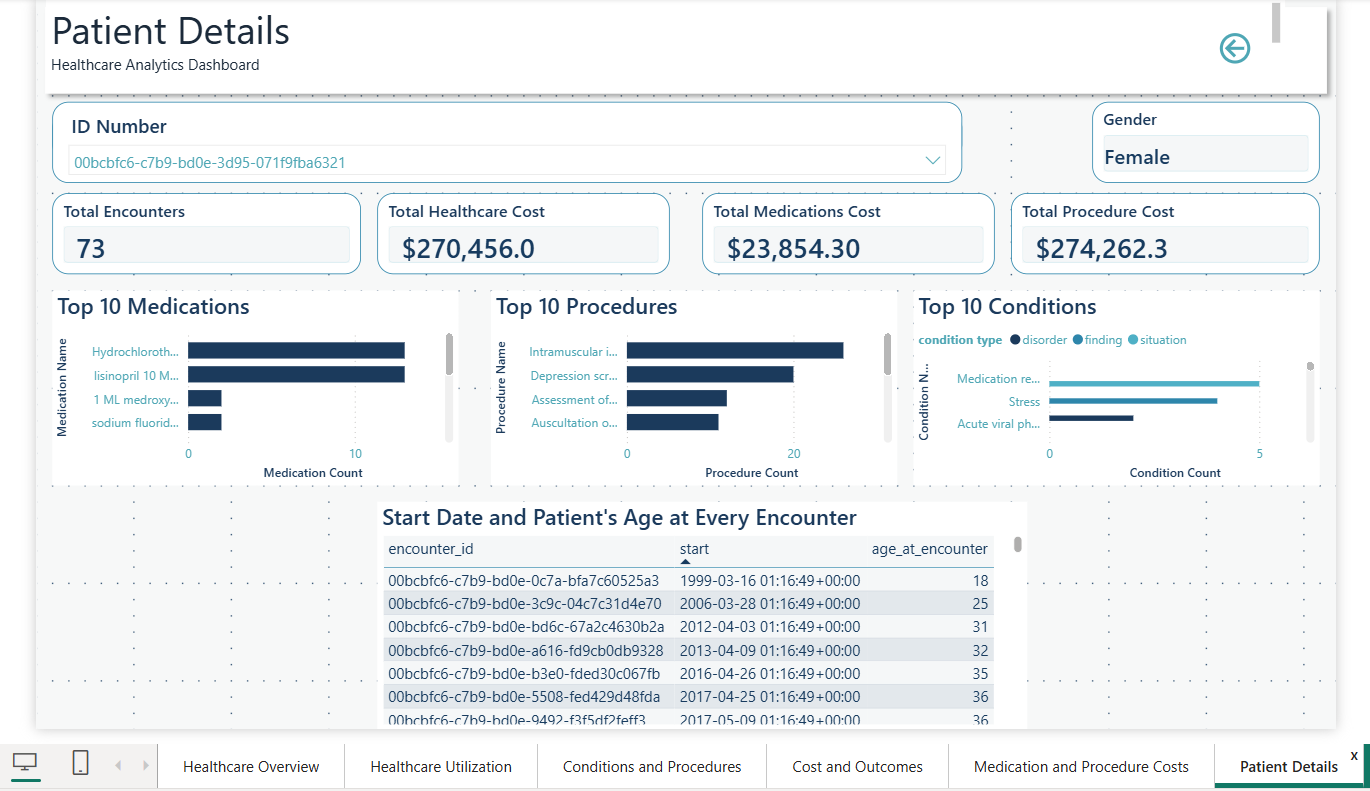

This screenshot's page, from the dashboard's own definition file:
{"tool":"powerbi","page":{"name":"Patient Details","canvas":[1280,720],"ordinal":5},"visuals":[{"type":"cardVisual","title":"Gender","fields":{"Data":["Min(patients_clean.gender)"]},"box":[1040,102,224,80],"z":0},{"type":"tableEx","title":"Start Date and Patient''s Age at Every Encounter","fields":{"Values":["Age groups.encounter_id","Age groups.start","Age groups.age_at_encounter"]},"box":[336,496,640,224],"z":1000},{"type":"cardVisual","title":"Total Encounters","fields":{"Data":["Measures (2).Total Encounters"]},"box":[16,192,304,80],"z":2000},{"type":"cardVisual","title":"Total Healthcare Cost","fields":{"Data":["Measures (2).Total Healthcare Cost"]},"box":[336,192,288,80],"z":3000},{"type":"cardVisual","title":"Total Procedure Cost","fields":{"Data":["Measures (2).Total Procedure Cost"]},"box":[960,192,304,80],"z":4000},{"type":"cardVisual","title":"Total Medications Cost","fields":{"Data":["Measures (2).Total Medications Cost"]},"box":[656,192,288,80],"z":5000},{"type":"shape","box":[0,0,1280,103],"z":6000},{"type":"clusteredBarChart","title":"Top 10 Procedures ","fields":{"Category":["procedures_clean.description"],"Y":["CountNonNull(procedures_clean.description)"]},"box":[448,288,400,192],"z":7000},{"type":"clusteredBarChart","title":"Top 10 Medications","fields":{"Category":["medications_clean.description"],"Y":["CountNonNull(medications_clean.description)"]},"box":[16,288,400,192],"z":8000},{"type":"clusteredBarChart","title":"Top 10 Conditions","fields":{"Category":["conditions_clean.condition description"],"Y":["CountNonNull(conditions_clean.condition description)"],"Series":["conditions_clean.condition type"]},"box":[864,288,400,192],"z":9000},{"type":"textbox","box":[10,0,1220,54],"z":10000},{"type":"actionButton","box":[1160,30,100,40],"z":11000},{"type":"textbox","box":[10,50,391.1,32],"z":12000},{"type":"cardVisual","title":"ID Number","fields":{"Data":["Min(patients_clean.id)"]},"box":[16,112,896,48],"z":13000},{"type":"slicer","title":"ID Number","fields":{"Values":["patients_clean.id"]},"box":[16,102,896,80],"z":14000}]}

Visuals, with their boxes on the page's 1280x720 design canvas (x1, y1, x2, y2). These are canvas units, not pixel positions in the 1370x791 screenshot, which may show the page scaled, cropped or inside an application window:
"Gender" cardVisual: (1040,102,1264,182)
"Start Date and Patient''s Age at Every Encounter" tableEx: (336,496,976,720)
"Total Encounters" cardVisual: (16,192,320,272)
"Total Healthcare Cost" cardVisual: (336,192,624,272)
"Total Procedure Cost" cardVisual: (960,192,1264,272)
"Total Medications Cost" cardVisual: (656,192,944,272)
shape: (0,0,1280,103)
"Top 10 Procedures " clusteredBarChart: (448,288,848,480)
"Top 10 Medications" clusteredBarChart: (16,288,416,480)
"Top 10 Conditions" clusteredBarChart: (864,288,1264,480)
textbox: (10,0,1230,54)
actionButton: (1160,30,1260,70)
textbox: (10,50,401,82)
"ID Number" cardVisual: (16,112,912,160)
"ID Number" slicer: (16,102,912,182)
